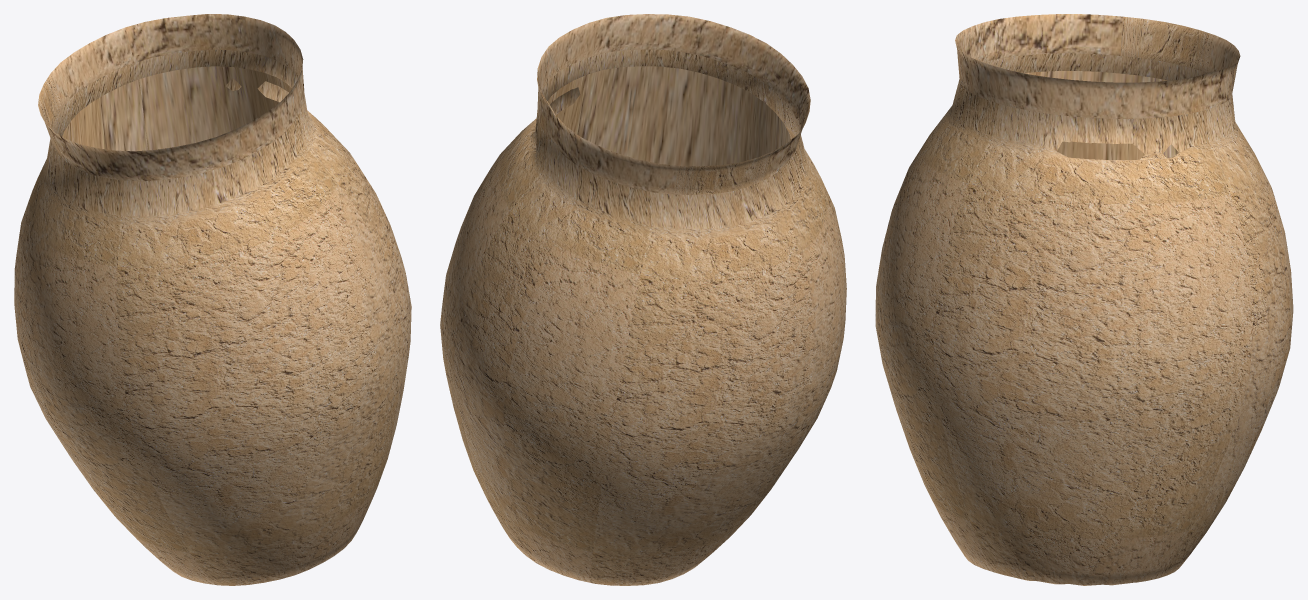
File: goza_charmo.glb
3 renders of one model, left to right at view 1: azimuth 30°, elevation 25°; view 2: azimuth 150°, elevation 25°; view 3: azimuth 270°, elevation 25°, orthographic. The views are drawn at different scales.
Parts seen in each view (by area): view 1: uploads_files_2457244_Ancient+vase; view 2: uploads_files_2457244_Ancient+vase; view 3: uploads_files_2457244_Ancient+vase.
Boxes of the visible parts, bbox=[...] form: uploads_files_2457244_Ancient+vase: bbox=[14, 14, 411, 585]; uploads_files_2457244_Ancient+vase: bbox=[440, 14, 846, 585]; uploads_files_2457244_Ancient+vase: bbox=[875, 14, 1293, 585].
Bounding box in the file's own units: 0.4414 × 0.6214 × 0.4563.
Materials: 1 (1 with a texture image).
